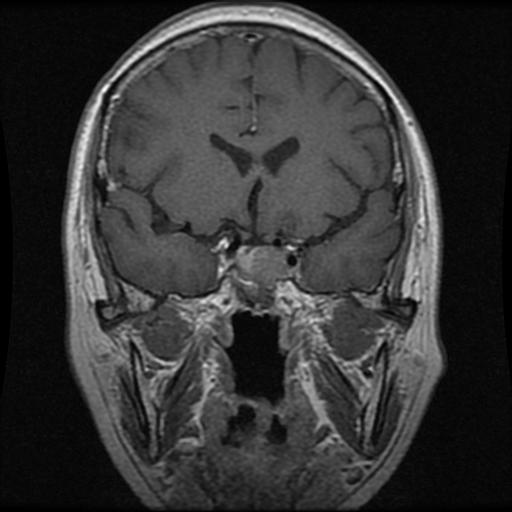Pituirity_tumour: (226, 242, 294, 308)
